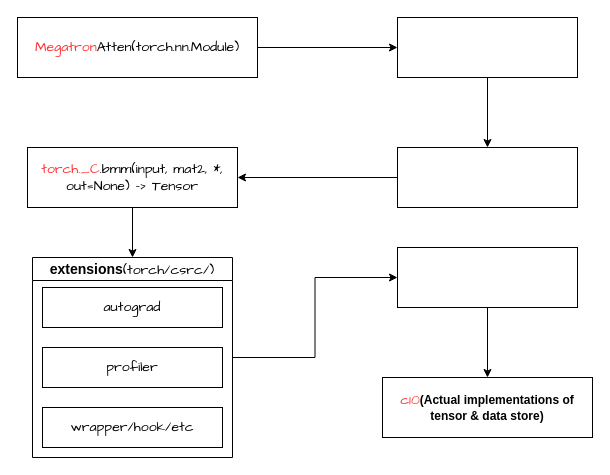
Image size: 610x475. Some labels were removed from this diagram. Each missing label, with the centre of its shape:
"Aten (Compute Library )" belongs at point 487,277.
"Megatron: _apply_QK" belongs at point 487,47.
"torch .bmm(A, B)" belongs at point 487,177.
